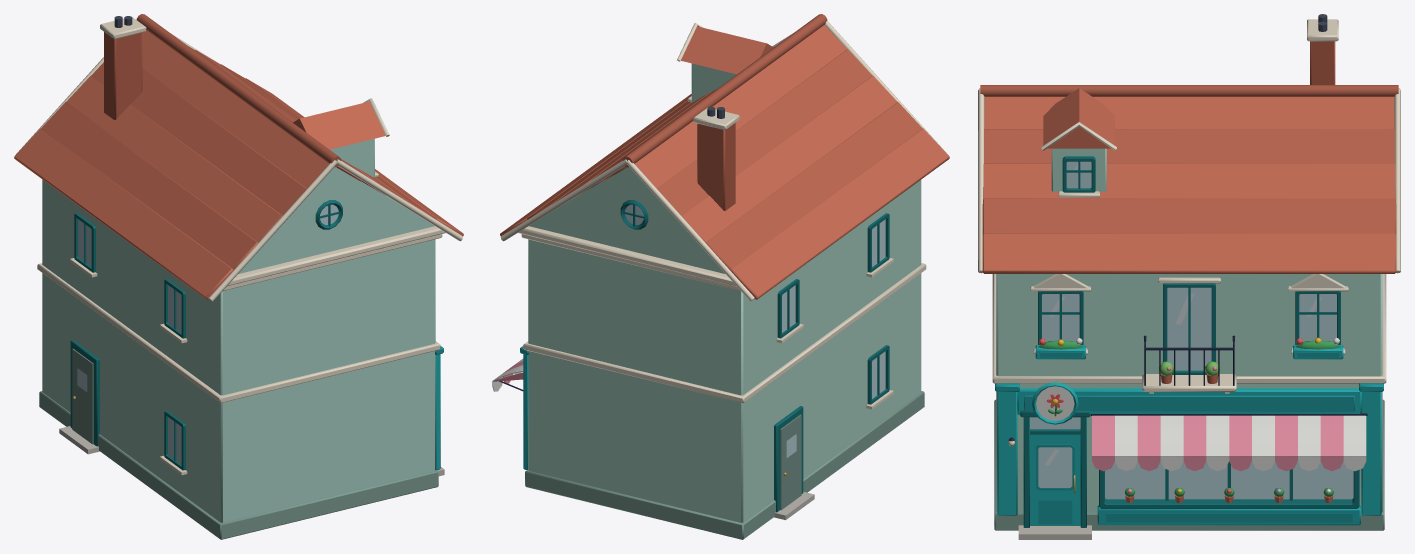
The model's file is house_b.glb.
3 renders of one model, left to right at view 1: azimuth 30°, elevation 25°; view 2: azimuth 150°, elevation 25°; view 3: azimuth 270°, elevation 25°, orthographic. The views are drawn at different scales.
Visible parts, largest first — view 1: HouseB; view 2: HouseB; view 3: HouseB.
Boxes of the visible parts, x1,y1,x2,y2 form: HouseB: (14,14,463,539); HouseB: (492,14,949,539); HouseB: (978,14,1400,539).
Bounding box in the file's own units: 7.53 × 10.27 × 9.2.
